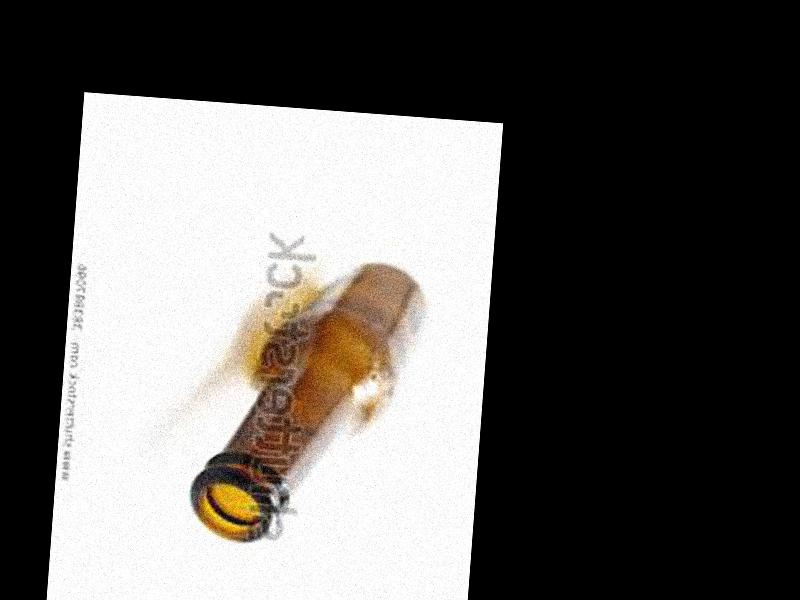Beer: (185, 249, 429, 555)
